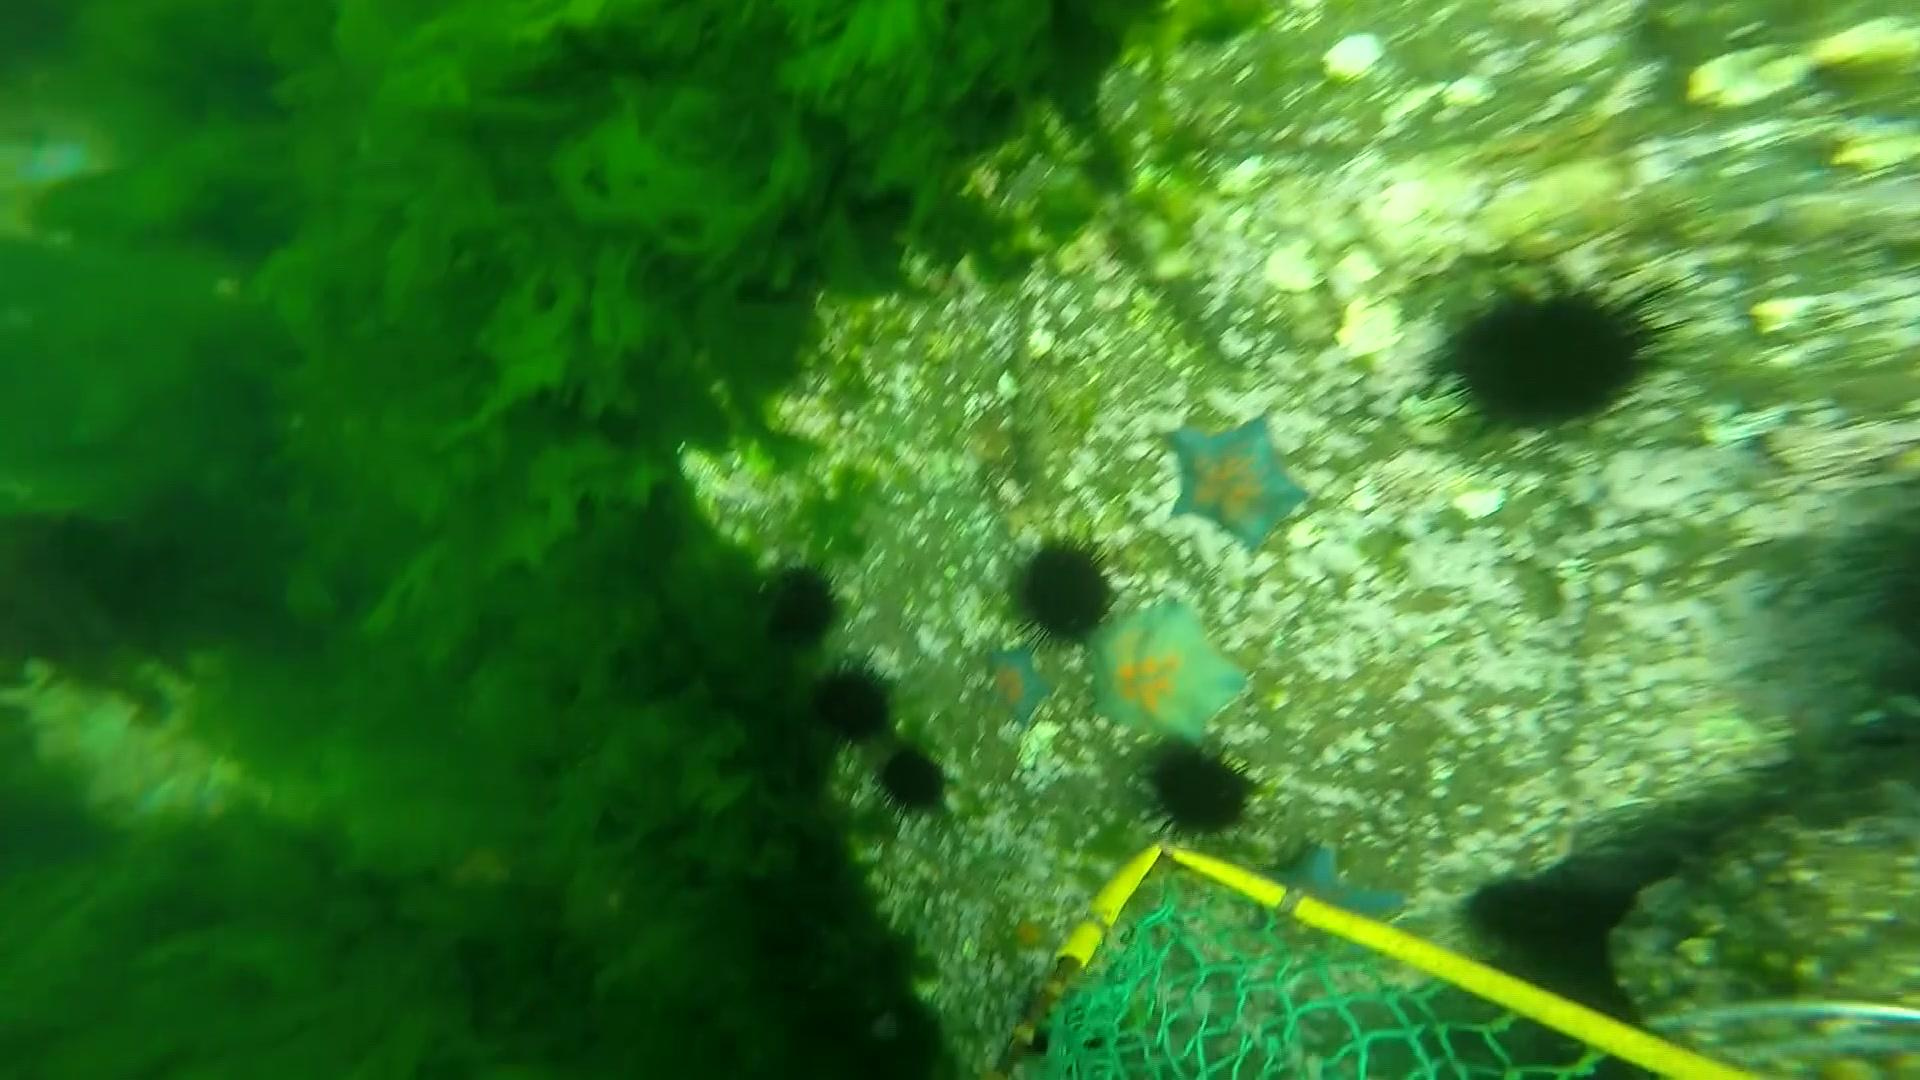echinus: (1422, 248, 1716, 444), (1135, 737, 1263, 853), (1009, 530, 1122, 658), (1457, 872, 1596, 964), (807, 658, 897, 750), (764, 556, 843, 658), (872, 745, 949, 833)
starfish: (1075, 593, 1265, 754), (1160, 409, 1316, 553), (1254, 833, 1418, 969), (981, 646, 1058, 729)
